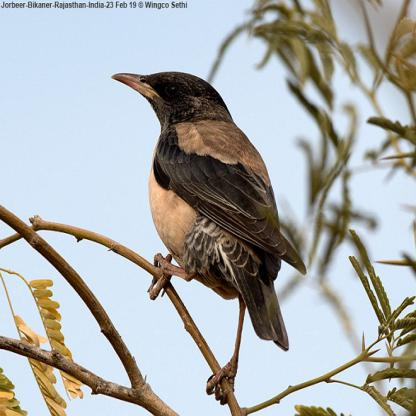Burung: (110, 69, 302, 408)
